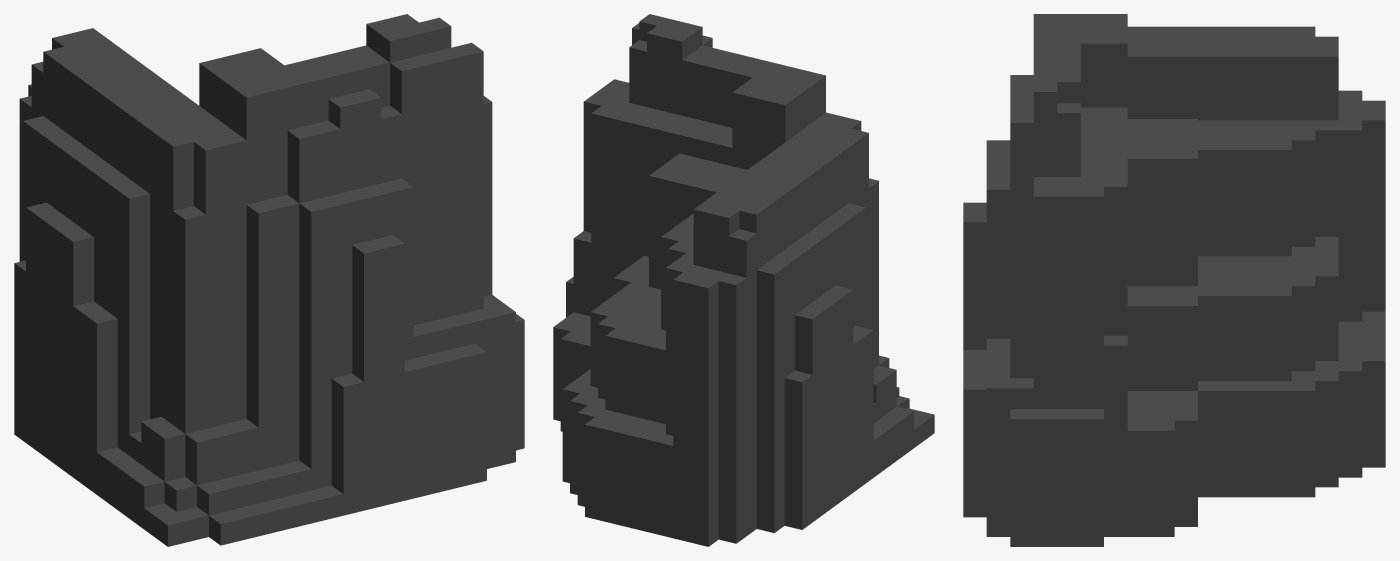
Rendered from Stone2.obj.
3 renders of one model, left to right at view 1: azimuth 30°, elevation 25°; view 2: azimuth 150°, elevation 25°; view 3: azimuth 270°, elevation 25°, orthographic. The views are drawn at different scales.
Size of the model in its own units: 1.8 by 2 by 1.8.
Materials: 1 (1 with a texture image).
